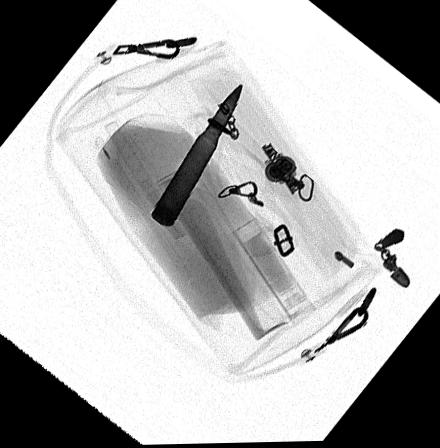Bullet: (149, 81, 244, 230)
